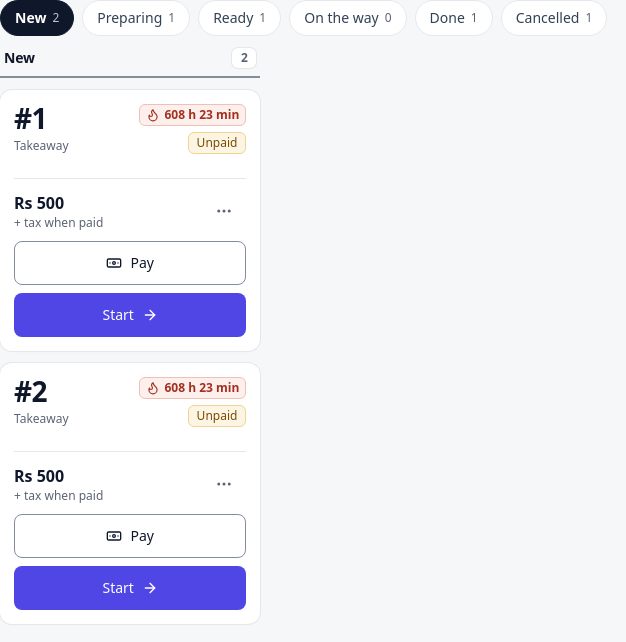
Test: Orders board › keeps cancelled orders in their own tab, with why, who and when
Step 1. Click the radio button labelled "Cancelled 1" → click(554, 18), box left=501, top=0, right=607, bottom=36
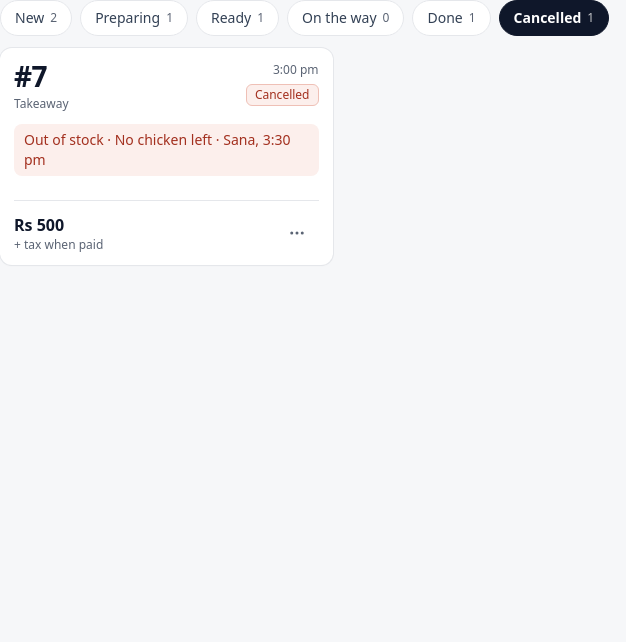
Expected: the text "Out of stock · No chicken left · Sana, 3:30 pm" is shown, left=14, top=124, right=318, bottom=176
Expected: the button "Pay" is gone
